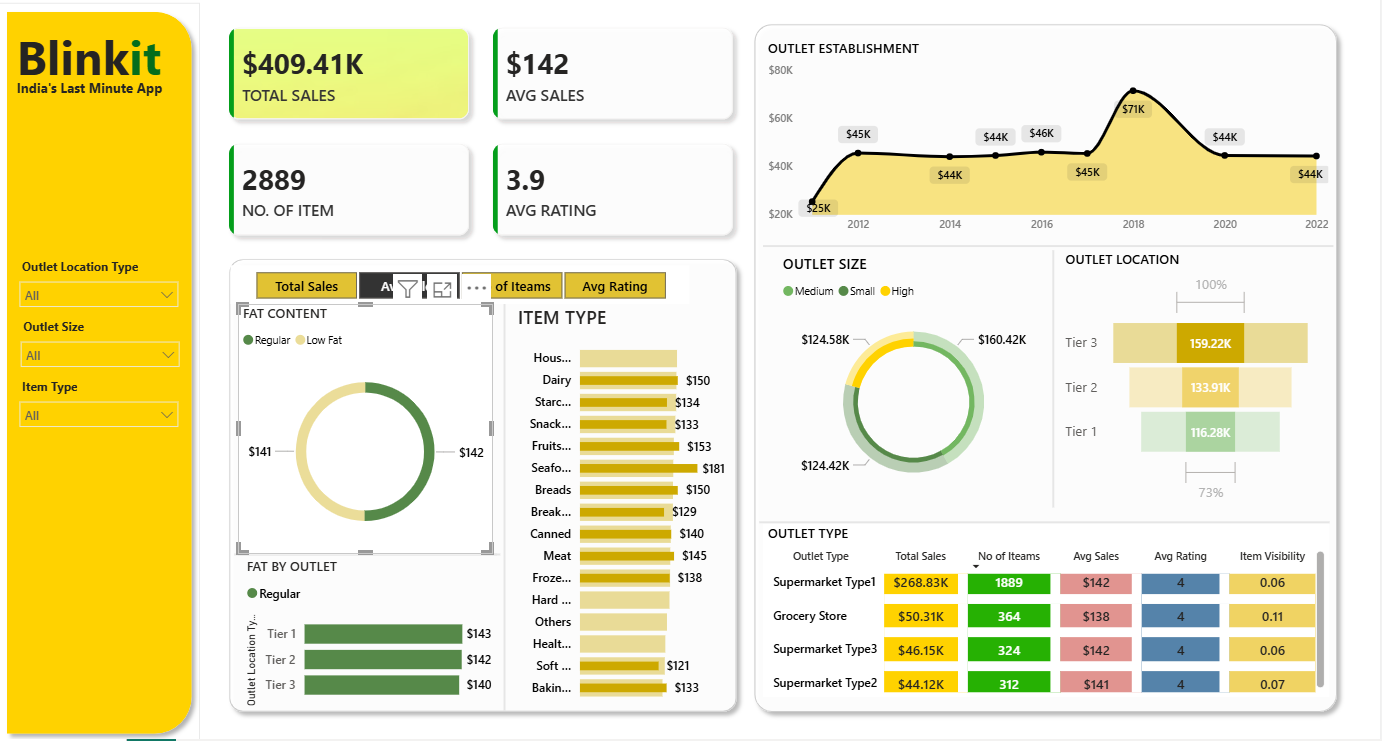

The page's visual inventory and layout, read from the dashboard file:
{"tool":"powerbi","page":{"name":"DASHBOARD","canvas":[1400,800],"ordinal":0},"visuals":[{"type":"shape","box":[0,24.1,205.1,749.3],"z":0},{"type":"textbox","box":[13.4,40.2,181,85.8],"z":1000},{"type":"textbox","box":[13.4,96.5,315,59],"z":2000},{"type":"cardVisual","fields":{"Data":["BlinkIT Grocery Data.Total Sales","BlinkIT Grocery Data.Avg Sales","BlinkIT Grocery Data.No of Iteams","BlinkIT Grocery Data.Avg Rating"]},"box":[205.3,19.7,569.7,269.7],"z":3000},{"type":"shape","box":[225,275,531.6,476.3],"z":4000},{"type":"donutChart","title":"FAT CONTENT","fields":{"Y":["BlinkIT Grocery Data.Avg Sales"],"Category":["BlinkIT Grocery Data.Item Fat Content"]},"box":[243.4,328.9,257.9,253.9],"z":5000},{"type":"cardVisual","fields":{"Data":["BlinkIT Grocery Data.Total Sales"]},"box":[317.1,446.1,110.5,67.1],"z":6000},{"type":"slicer","fields":{"Values":["Metrics 2.Metrics"]},"box":[235.5,289.5,464.5,39.5],"z":7000},{"type":"clusteredBarChart","title":"FAT BY OUTLET","fields":{"Y":["BlinkIT Grocery Data.Avg Sales"],"Category":["BlinkIT Grocery Data.Outlet Location Type"],"Series":["BlinkIT Grocery Data.Item Fat Content"]},"box":[247.4,584.2,257.9,156.6],"z":8000},{"type":"shape","box":[243.4,571.1,265.8,23.7],"z":9000},{"type":"shape","box":[239.5,571.1,265.8,23.7],"z":10000},{"type":"shape","box":[505.3,328.9,15.8,411.8],"z":11000},{"type":"barChart","title":"ITEM TYPE","fields":{"Y":["BlinkIT Grocery Data.Avg Sales"],"Category":["BlinkIT Grocery Data.Item Type"]},"box":[521.1,328.9,219.7,411.8],"z":12000},{"type":"shape","box":[756.6,36.8,607.9,714.5],"z":13000},{"type":"lineChart","title":"OUTLET ESTABLISHMENT","fields":{"Category":["BlinkIT Grocery Data.Outlet Establishment Year"],"Y":["BlinkIT Grocery Data.Total Sales"]},"box":[775,60.5,577.6,205.3],"z":14000},{"type":"shape","box":[775,265.8,577.6,9.2],"z":15000},{"type":"donutChart","title":"OUTLET SIZE","fields":{"Y":["BlinkIT Grocery Data.Total Sales"],"Category":["BlinkIT Grocery Data.Outlet Size"]},"box":[789.5,277.6,275,255.3],"z":16000},{"type":"shape","box":[1060.5,275,15.8,260.5],"z":17000},{"type":"funnel","title":"OUTLET LOCATION","fields":{"Category":["BlinkIT Grocery Data.Outlet Location Type"],"Y":["Sum(BlinkIT Grocery Data.Sales)"]},"box":[1076.3,275,260.5,260.5],"z":18000},{"type":"shape","box":[771.1,546.1,577.6,9.2],"z":19000},{"type":"pivotTable","title":"OUTLET TYPE","fields":{"Rows":["BlinkIT Grocery Data.Outlet Type"],"Values":["BlinkIT Grocery Data.Total Sales","BlinkIT Grocery Data.No of Iteams","BlinkIT Grocery Data.Avg Sales","BlinkIT Grocery Data.Avg Rating","Avg(BlinkIT Grocery Data.Item Visibility)"]},"box":[775,551.3,573.7,175],"z":20000},{"type":"slicer","fields":{"Values":["BlinkIT Grocery Data.Outlet Location Type"]},"box":[11.8,278.9,181.6,60.5],"z":21000},{"type":"slicer","fields":{"Values":["BlinkIT Grocery Data.Outlet Size"]},"box":[13.2,339.5,181.6,60.5],"z":22000},{"type":"slicer","fields":{"Values":["BlinkIT Grocery Data.Item Type"]},"box":[11.8,400,181.6,60.5],"z":23000}]}

Visuals, with their boxes on the page's 1400x800 design canvas (x1, y1, x2, y2). These are canvas units, not pixel positions in the 1382x741 screenshot, which may show the page scaled, cropped or inside an application window:
shape: [0,24,205,773]
textbox: [13,40,194,126]
textbox: [13,96,328,156]
cardVisual - BlinkIT Grocery Data.Total Sales x BlinkIT Grocery Data.Avg Sales: [205,20,775,289]
shape: [225,275,757,751]
"FAT CONTENT" donutChart: [243,329,501,583]
cardVisual - BlinkIT Grocery Data.Total Sales: [317,446,428,513]
slicer - Metrics 2.Metrics: [236,290,700,329]
"FAT BY OUTLET" clusteredBarChart: [247,584,505,741]
shape: [243,571,509,595]
shape: [240,571,505,595]
shape: [505,329,521,741]
"ITEM TYPE" barChart: [521,329,741,741]
shape: [757,37,1364,751]
"OUTLET ESTABLISHMENT" lineChart: [775,60,1353,266]
shape: [775,266,1353,275]
"OUTLET SIZE" donutChart: [790,278,1064,533]
shape: [1060,275,1076,536]
"OUTLET LOCATION" funnel: [1076,275,1337,536]
shape: [771,546,1349,555]
"OUTLET TYPE" pivotTable: [775,551,1349,726]
slicer - BlinkIT Grocery Data.Outlet Location Type: [12,279,193,339]
slicer - BlinkIT Grocery Data.Outlet Size: [13,340,195,400]
slicer - BlinkIT Grocery Data.Item Type: [12,400,193,460]
